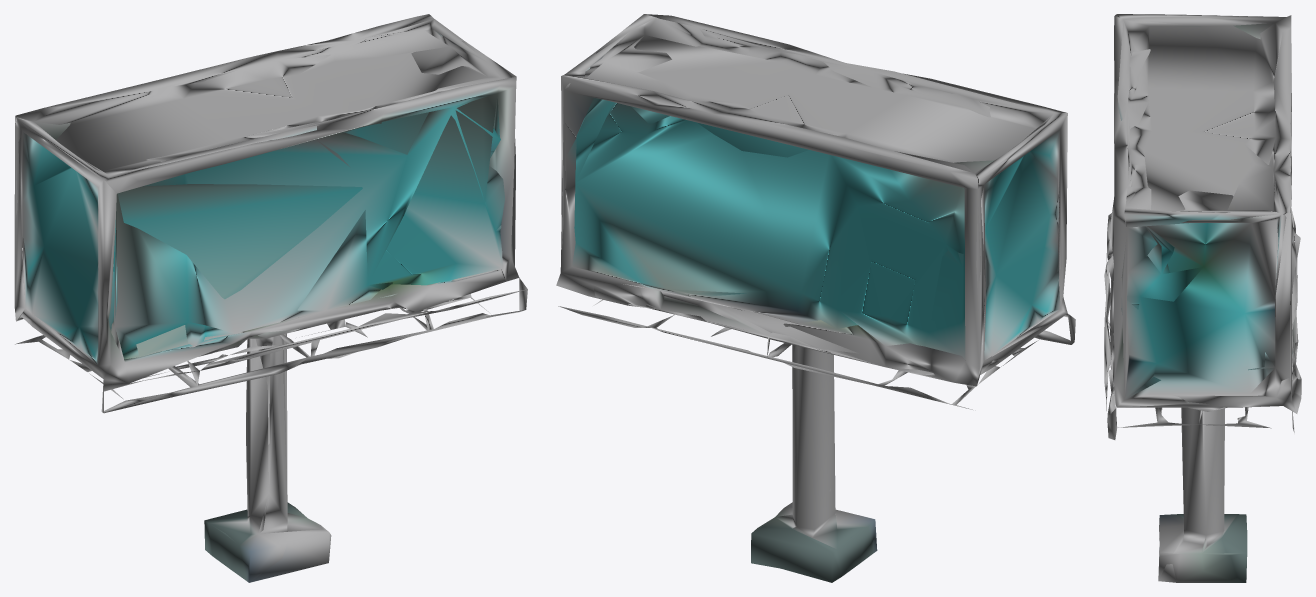
File: gen3d-billboard-sign-lod0.glb
The picture shows the model from 3 angles, left to right: view 1: azimuth 30°, elevation 25°; view 2: azimuth 150°, elevation 25°; view 3: azimuth 270°, elevation 25°; orthographic projection. The views are drawn at different scales.
Visible parts, largest first — view 1: part_0; view 2: part_0; view 3: part_0.
Part boxes in pixels (bbox=[...]): part_0: bbox=[14, 14, 527, 582]; part_0: bbox=[556, 14, 1075, 582]; part_0: bbox=[1104, 14, 1301, 582].
Bounding box in the file's own units: 0.9589 × 0.9996 × 0.3956.
